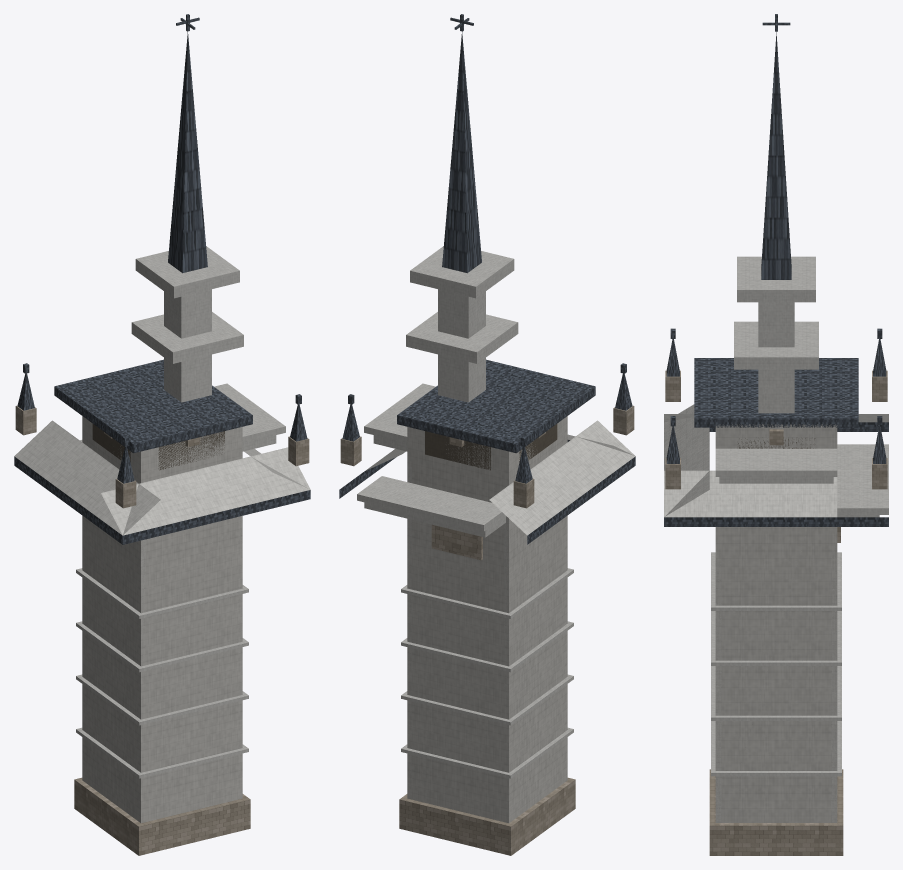
File: steeple-meetinghouse-climbable.glb
3 views of the same model, side by side, from view 1: azimuth 30°, elevation 25°; view 2: azimuth 150°, elevation 25°; view 3: azimuth 270°, elevation 25° (orthographic). The views are drawn at different scales.
Visible parts, largest first — view 1: steeple-meetinghouse-climbable; view 2: steeple-meetinghouse-climbable; view 3: steeple-meetinghouse-climbable.
Boxes of the visible parts, x1=… form: steeple-meetinghouse-climbable: x1=14, y1=14, x2=310, y2=855; steeple-meetinghouse-climbable: x1=339, y1=14, x2=635, y2=855; steeple-meetinghouse-climbable: x1=664, y1=14, x2=888, y2=855.
Size of the model in its own units: 7.4 by 30 by 7.4.
5 materials, 5 textured.
